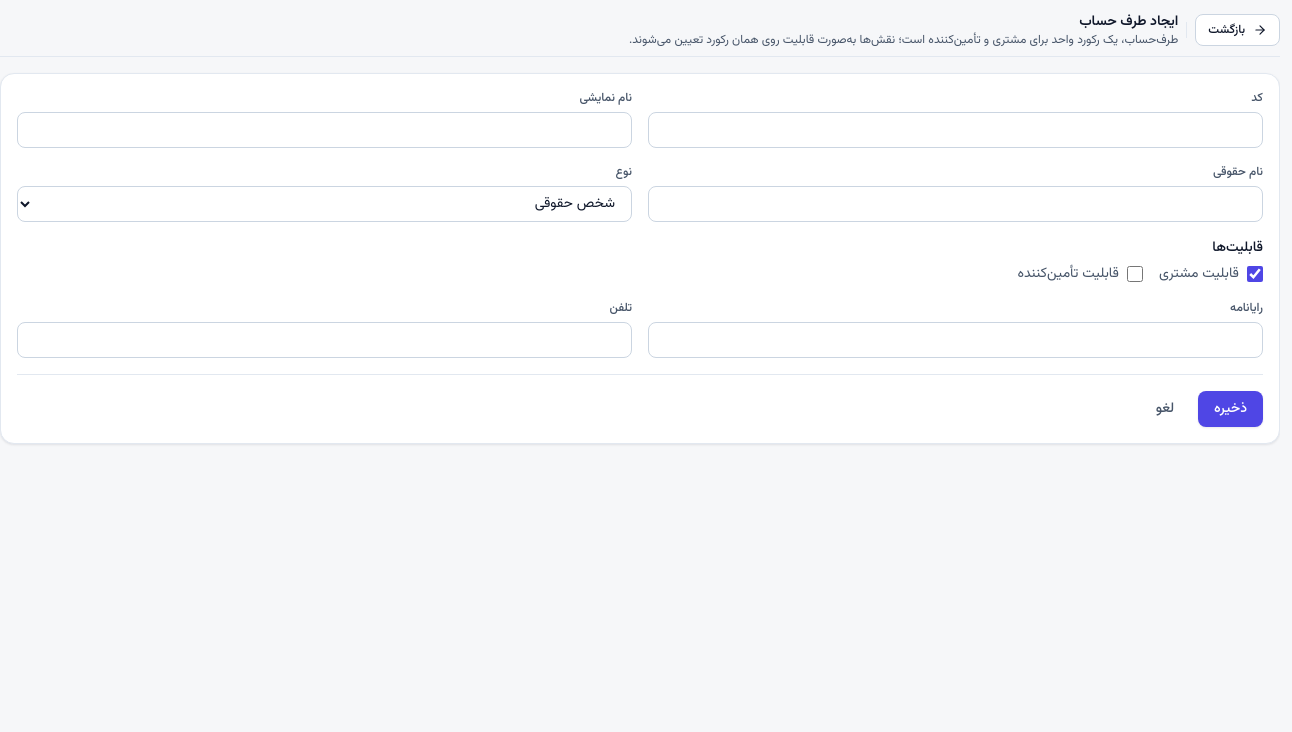
Test: party form › maps a duplicate code (409) to its own copy and never shows the backend message
In the field labelled "کد": (956, 130) [648,112,1263,148], type "PT-01"
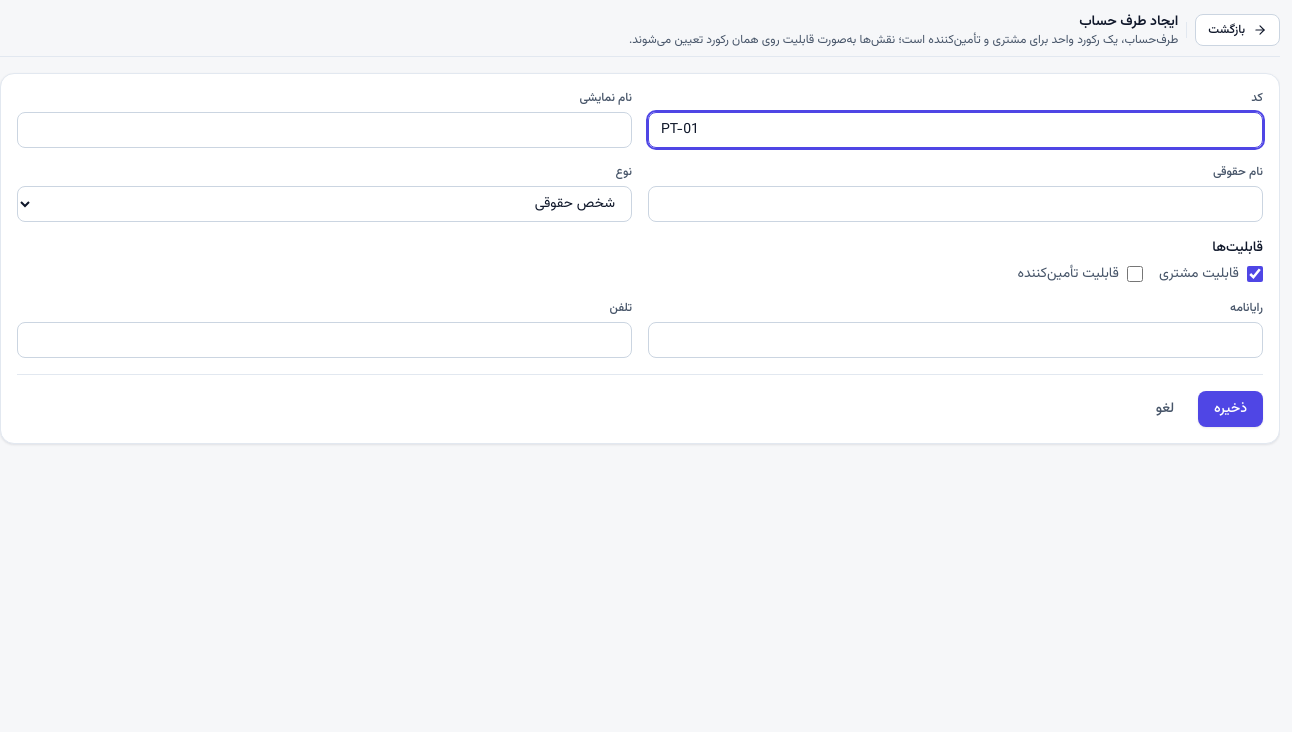
In the field labelled "نام نمایشی": (324, 130) [17,112,632,148], type "آریا"
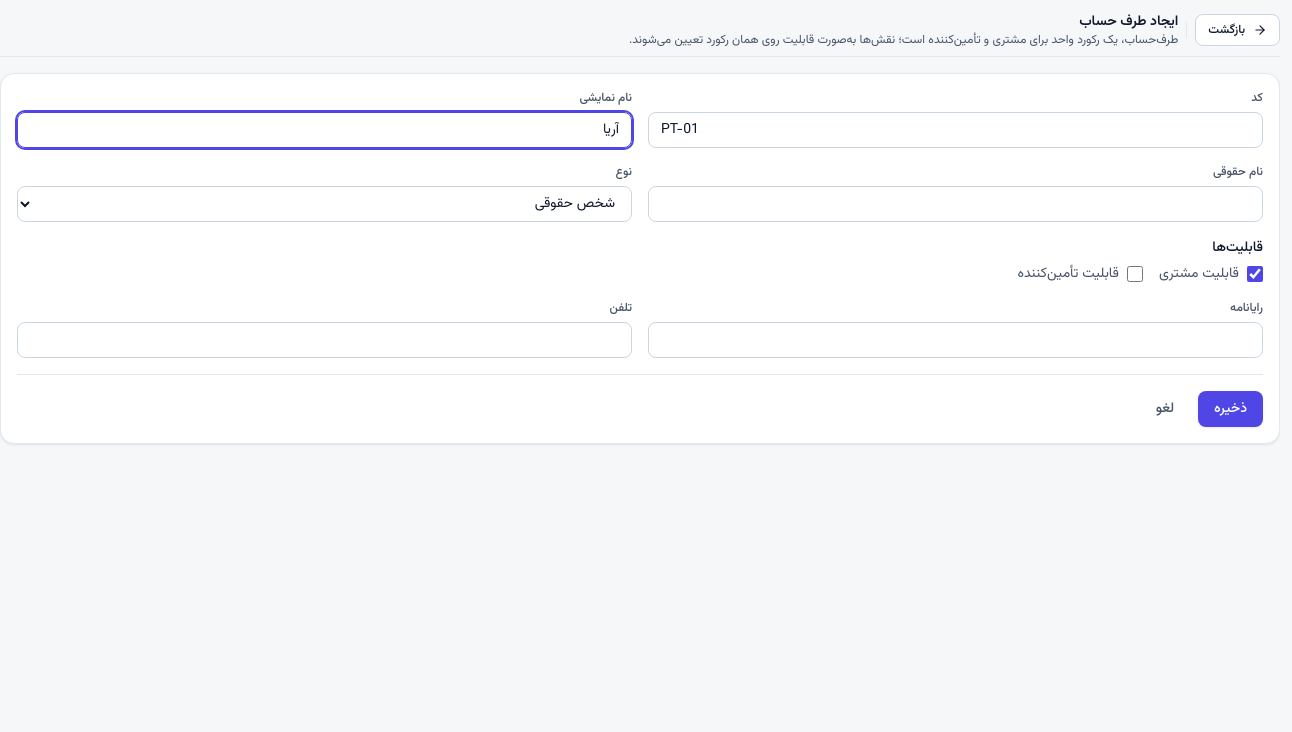
Click the button with test id "party-form-submit": (1231, 409) [1198,391,1263,427]
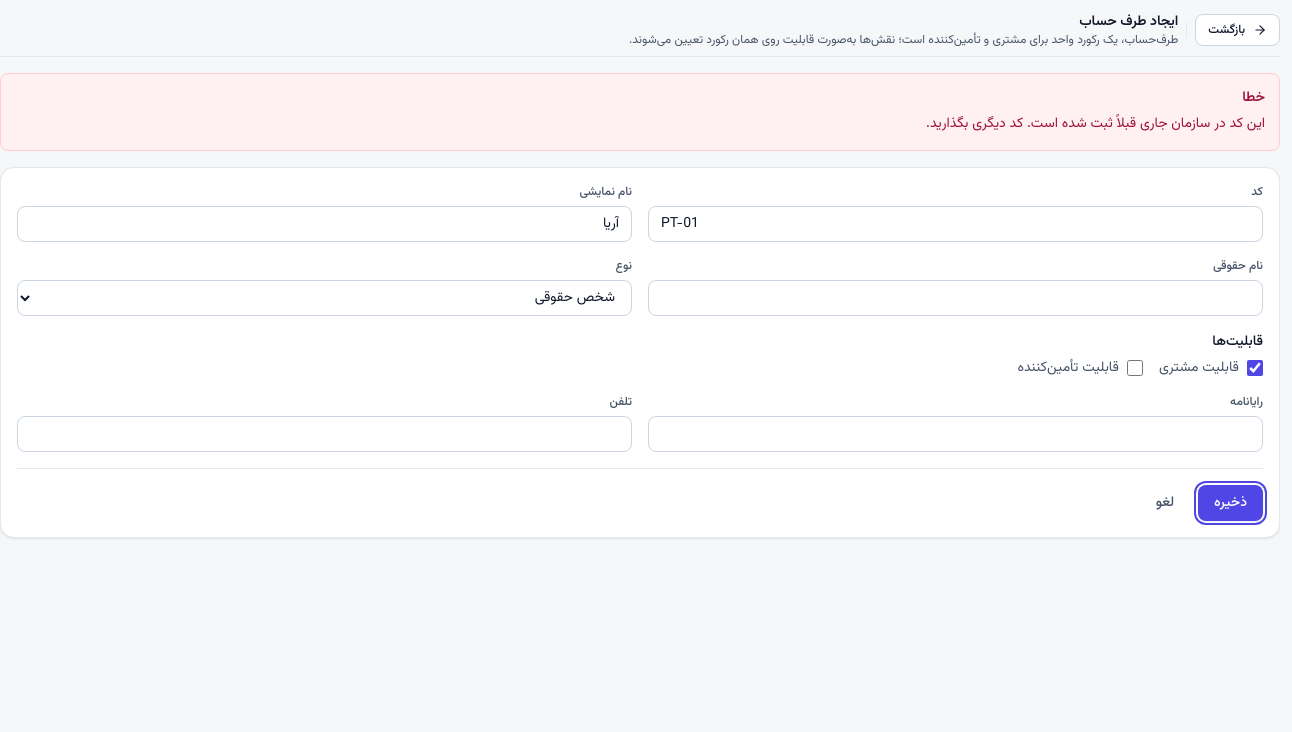
Expected: the text "این کد در سازمان جاری قبلاً ثبت شده است. کد دیگری بگذارید." is shown, [926,113,1265,135]
